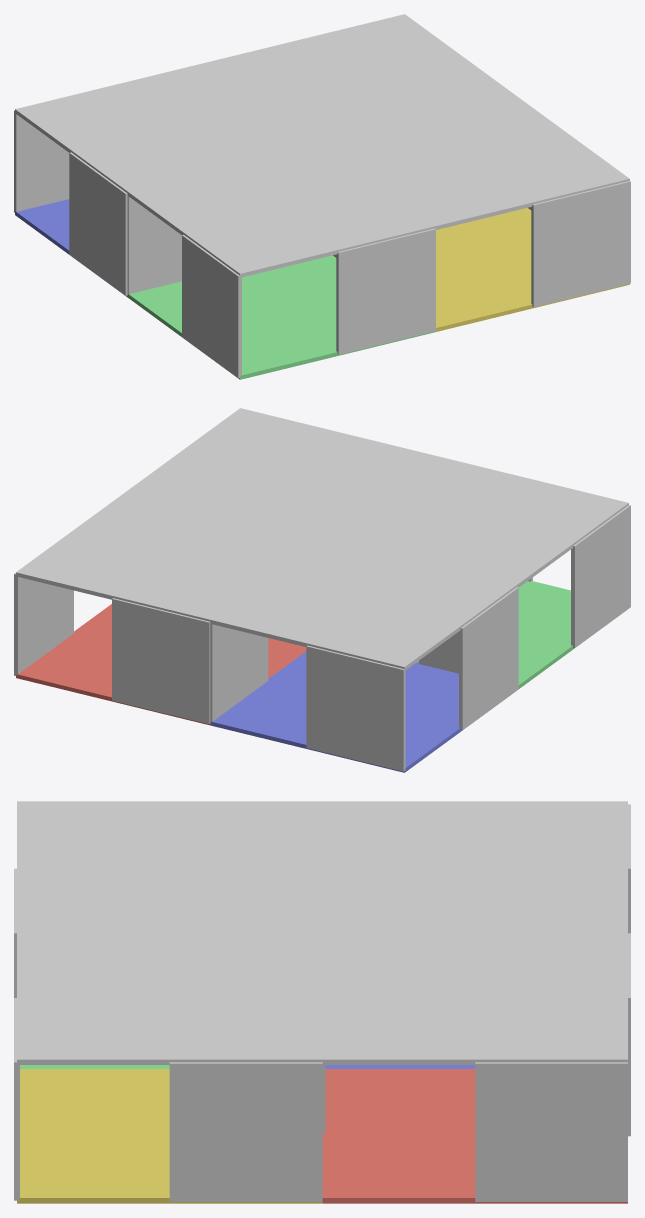
Rendered from 004-casa con cuatro habitaciones.glb.
3 views of the same model, one above another, from view 1: azimuth 30°, elevation 25°; view 2: azimuth 150°, elevation 25°; view 3: azimuth 270°, elevation 25° (orthographic). The views are drawn at different scales.
Parts seen in each view (by area): view 1: Cube.007, Cube.029, Cube.006, Cube.018, Cube.011, Cube.033, Cube.021, Cube.010, Cube.008, Cube.030, Cube.022, Cube.043 (+19 smaller); view 2: Cube.017, Cube.039, Cube.018, Cube.006, Cube.021, Cube.020, Cube.041, Cube.010, Cube.042, Cube.022, Cube.011, Cube.032 (+20 smaller); view 3: Cube.027, Cube.038, Cube.034, Cube.040, Cube.030, Cube.023, Cube.031, Cube.041, Cube.009, Cube.010, Cube.019, Cube.022 (+14 smaller).
Boxes of the visible parts, left/top/right/bottom form: Cube.007: left=336, top=228, right=435, bottom=354; Cube.029: left=531, top=181, right=630, bottom=307; Cube.006: left=182, top=235, right=241, bottom=378; Cube.018: left=69, top=152, right=127, bottom=295; Cube.011: left=184, top=209, right=337, bottom=277; Cube.033: left=379, top=161, right=532, bottom=229; Cube.021: left=15, top=85, right=168, bottom=152; Cube.010: left=127, top=168, right=280, bottom=234; Cube.008: left=282, top=185, right=434, bottom=251; Cube.030: left=476, top=137, right=629, bottom=204; Cube.022: left=71, top=126, right=224, bottom=193; Cube.043: left=266, top=79, right=419, bottom=143; Cube.017: left=306, top=645, right=405, bottom=771; Cube.039: left=112, top=598, right=210, bottom=723; Cube.018: left=459, top=587, right=518, bottom=730; Cube.006: left=571, top=505, right=630, bottom=647; Cube.021: left=307, top=602, right=460, bottom=669; Cube.020: left=210, top=578, right=362, bottom=646; Cube.041: left=16, top=531, right=168, bottom=599; Cube.010: left=420, top=520, right=572, bottom=587; Cube.042: left=113, top=555, right=265, bottom=621; Cube.022: left=364, top=561, right=516, bottom=627; Cube.011: left=476, top=479, right=628, bottom=545; Cube.032: left=225, top=473, right=378, bottom=537; Cube.027: left=169, top=1062, right=322, bottom=1201; Cube.038: left=475, top=1062, right=627, bottom=1201; Cube.034: left=322, top=1133, right=475, bottom=1203; Cube.040: left=322, top=995, right=475, bottom=1064; Cube.030: left=17, top=995, right=169, bottom=1064; Cube.023: left=17, top=1133, right=169, bottom=1203; Cube.031: left=169, top=995, right=322, bottom=1062; Cube.041: left=475, top=995, right=627, bottom=1062; Cube.009: left=169, top=866, right=322, bottom=930; Cube.010: left=169, top=801, right=322, bottom=865; Cube.019: left=322, top=866, right=475, bottom=930; Cube.022: left=322, top=801, right=475, bottom=865.
Size of the model in its own units: 8.08 by 2.08 by 8.08.
